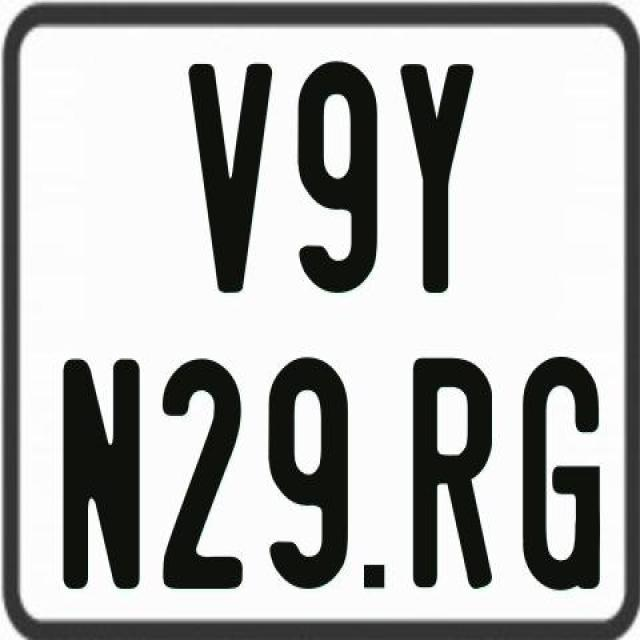2: (160, 354, 248, 588)
9: (264, 357, 348, 599), (297, 61, 379, 299)
G: (523, 355, 603, 589)
N: (60, 358, 144, 592)
R: (409, 357, 491, 592)
V: (188, 61, 278, 298)
Y: (397, 64, 475, 294)
